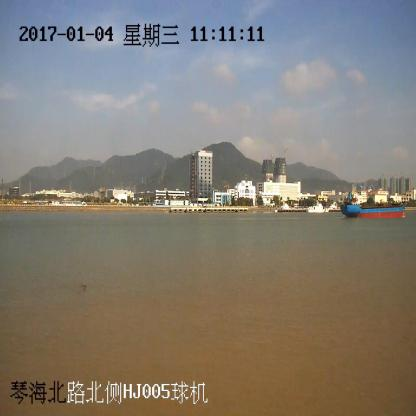Bulk Carrier: (342, 184, 405, 218)
